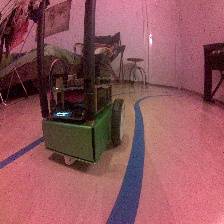rob: (40, 51, 126, 167)
